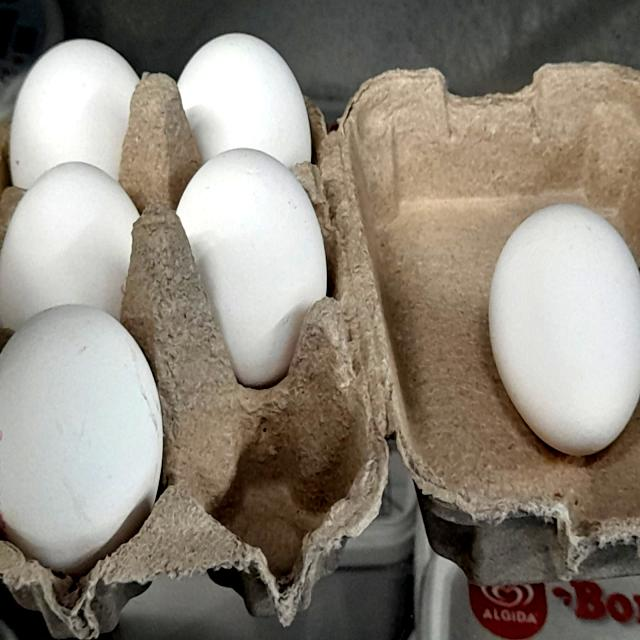egg: (0, 302, 174, 580), (486, 203, 640, 468), (169, 146, 338, 381), (0, 154, 148, 328)
